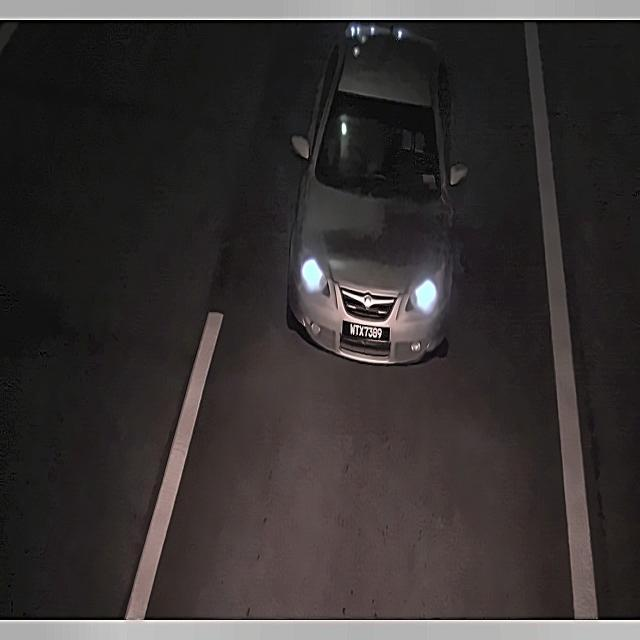car: (341, 317, 396, 350)
